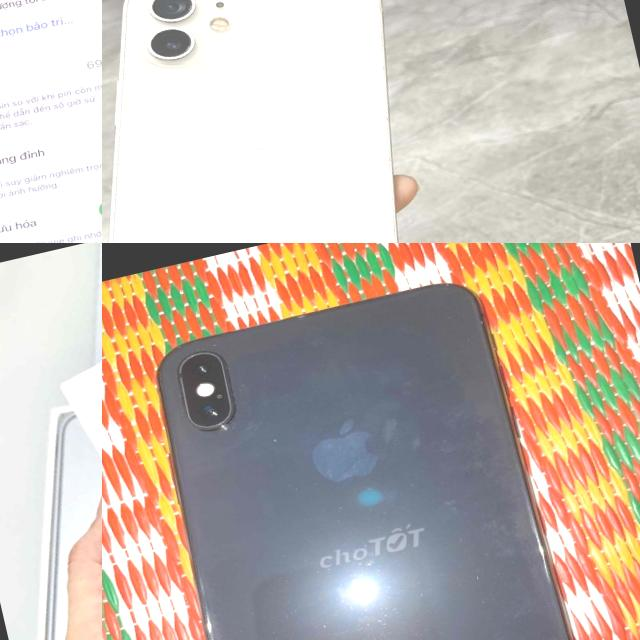gen_12_13: (102, 0, 474, 243)
gen_x_xs: (125, 258, 630, 640), (0, 0, 102, 243)
